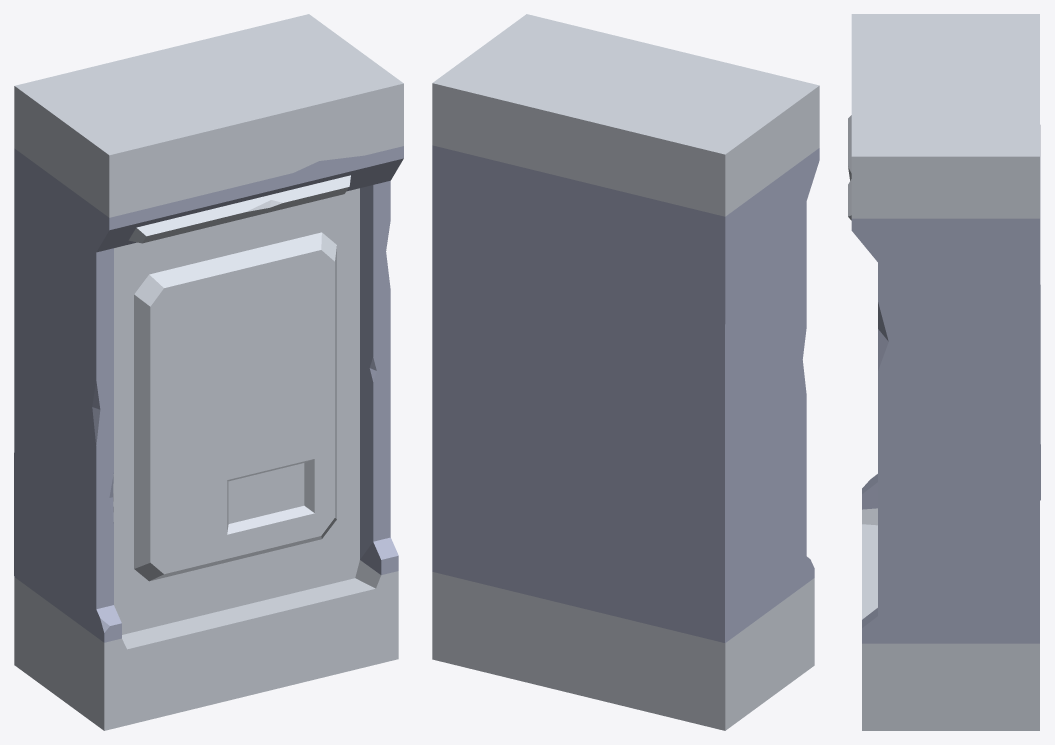
Rendered from Wall3.FBX.
3 views of the same model, side by side, from view 1: azimuth 30°, elevation 25°; view 2: azimuth 150°, elevation 25°; view 3: azimuth 270°, elevation 25° (orthographic).
Parts seen in each view (by area): view 1: Wall3; view 2: Wall3; view 3: Wall3.
Boxes of the visible parts, left/top/right/bottom form: Wall3: left=14, top=14, right=403, bottom=730; Wall3: left=432, top=14, right=819, bottom=730; Wall3: left=848, top=14, right=1040, bottom=730.
Size of the model in its own units: 18.61 by 34.98 by 10.65.
